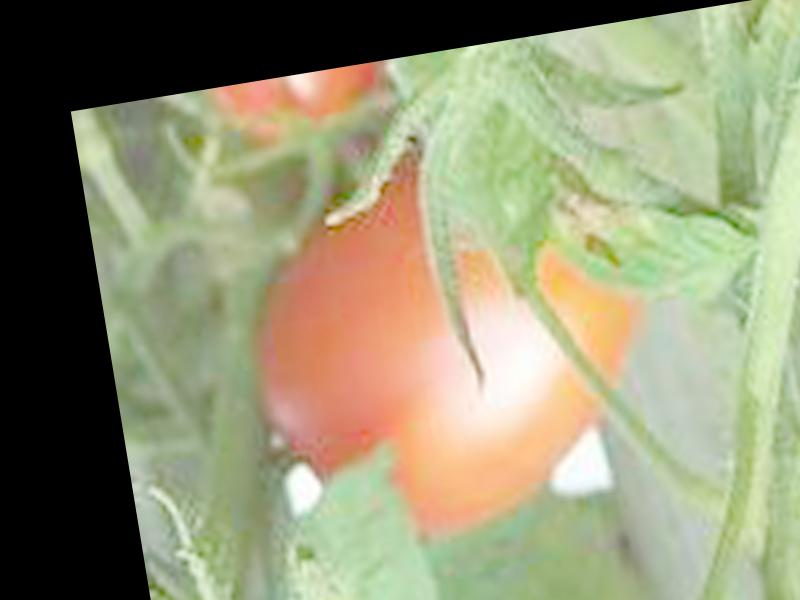Tomato: (232, 138, 666, 562)
